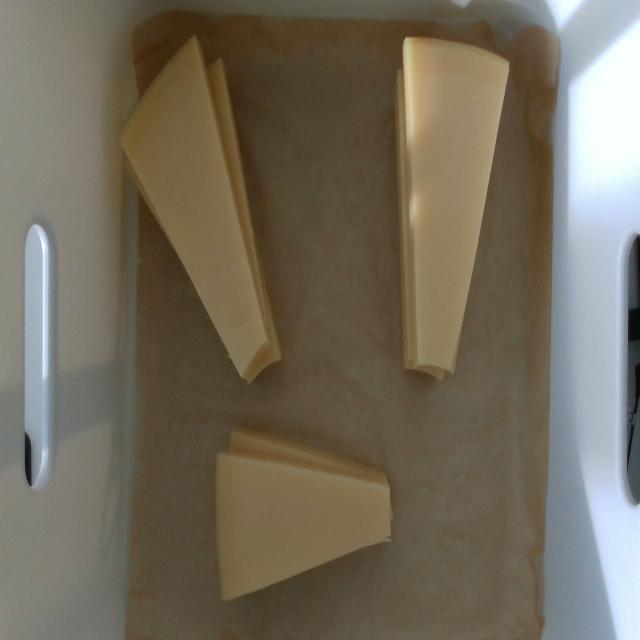Cheese: (118, 39, 268, 376), (405, 37, 508, 372), (216, 453, 392, 598)
